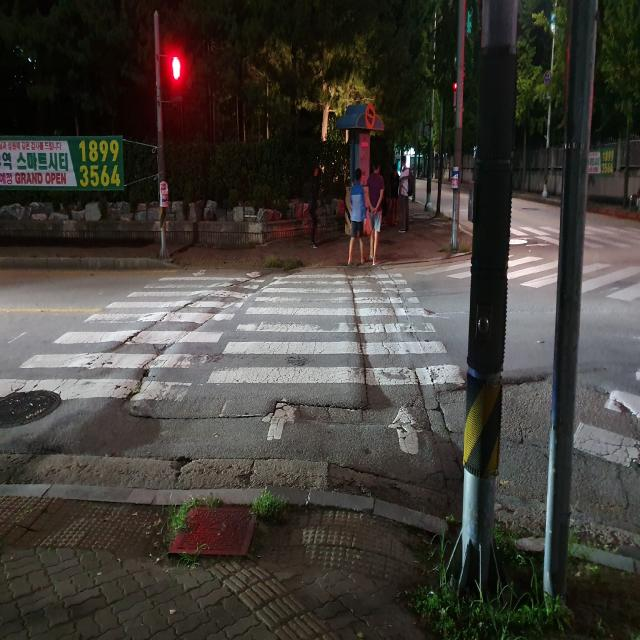빨간불: (168, 54, 183, 98)
횡단보도: (0, 268, 466, 458), (584, 257, 640, 304), (512, 256, 555, 284), (515, 228, 555, 248)
